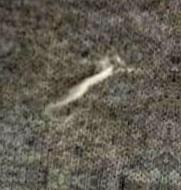snag: (45, 63, 117, 112)
